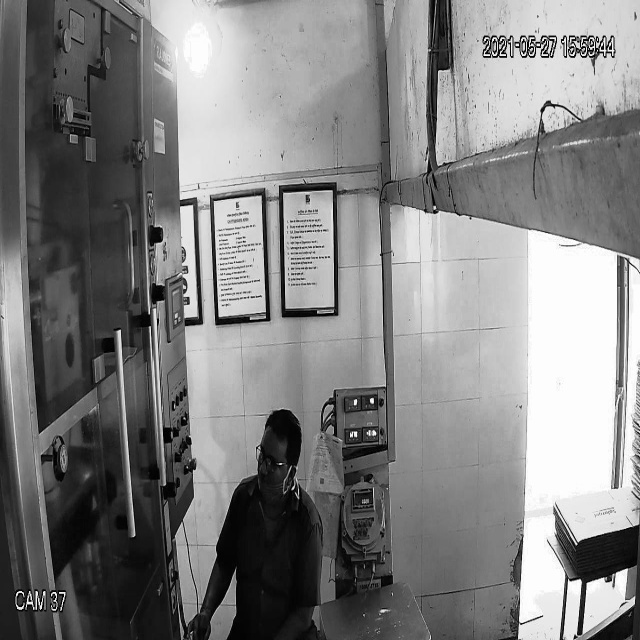Gafas: (251, 442, 296, 476)
